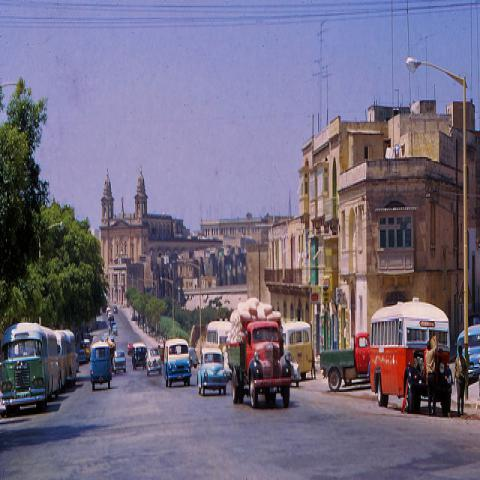bus: (370, 298, 454, 415), (1, 322, 59, 414), (281, 315, 313, 382), (206, 318, 231, 356), (62, 329, 77, 388)
car: (39, 294, 455, 416), (196, 347, 227, 395), (163, 338, 191, 388), (456, 322, 479, 378), (90, 343, 112, 392), (52, 330, 68, 388), (132, 340, 147, 372), (146, 347, 161, 376), (112, 351, 126, 374), (189, 346, 199, 368), (78, 348, 86, 363), (112, 324, 118, 336), (113, 306, 118, 314)
truck: (225, 296, 292, 408), (321, 332, 370, 392)
